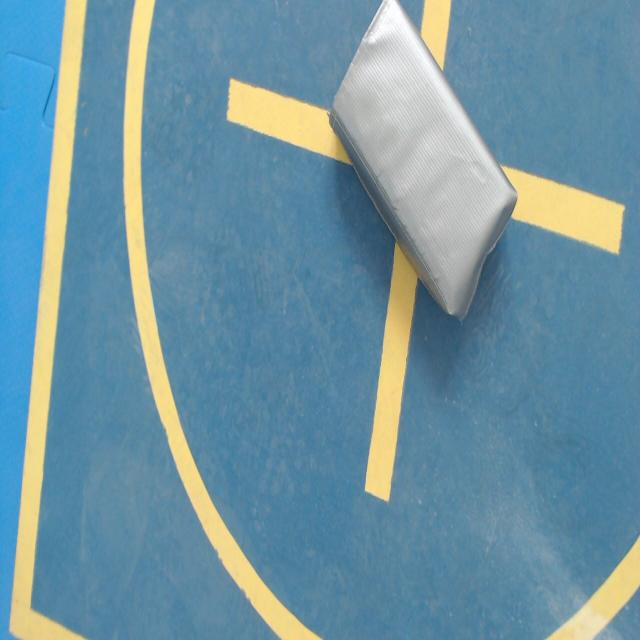lipo: (330, 0, 516, 318)
